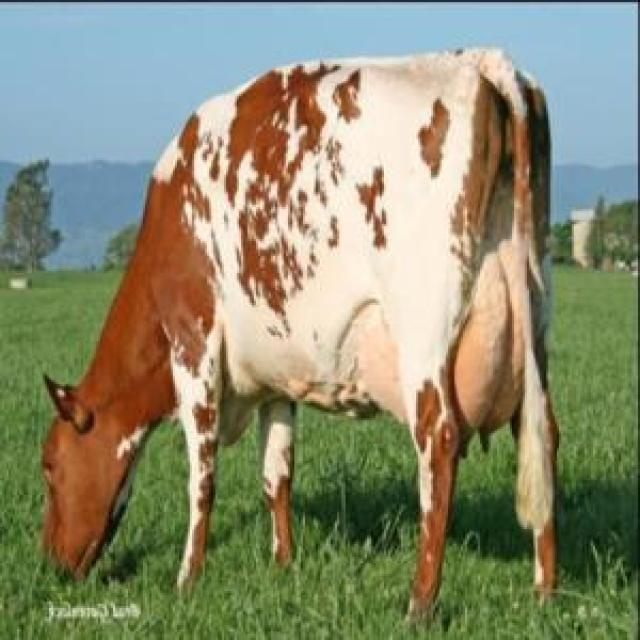not_pig: (36, 45, 561, 625)
